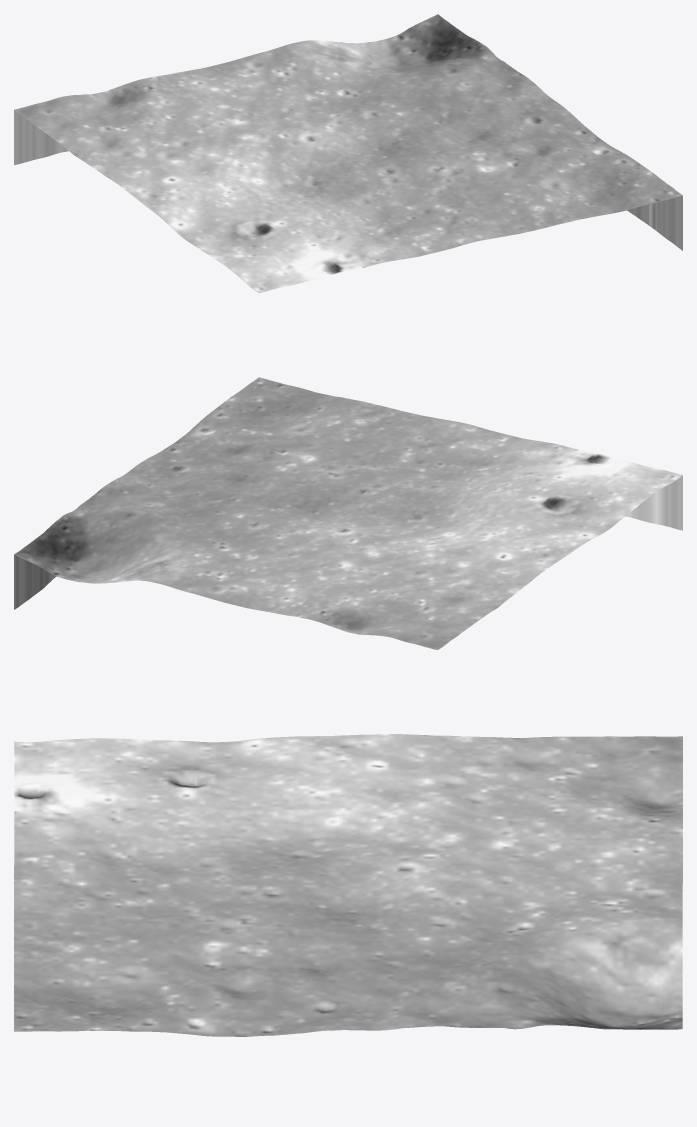
The picture shows the model from 3 angles, top to bottom: view 1: azimuth 30°, elevation 25°; view 2: azimuth 150°, elevation 25°; view 3: azimuth 270°, elevation 25°; orthographic projection. The views are drawn at different scales.
Size of the model in its own units: 639 by 111 by 639.
1 material, 1 textured.
